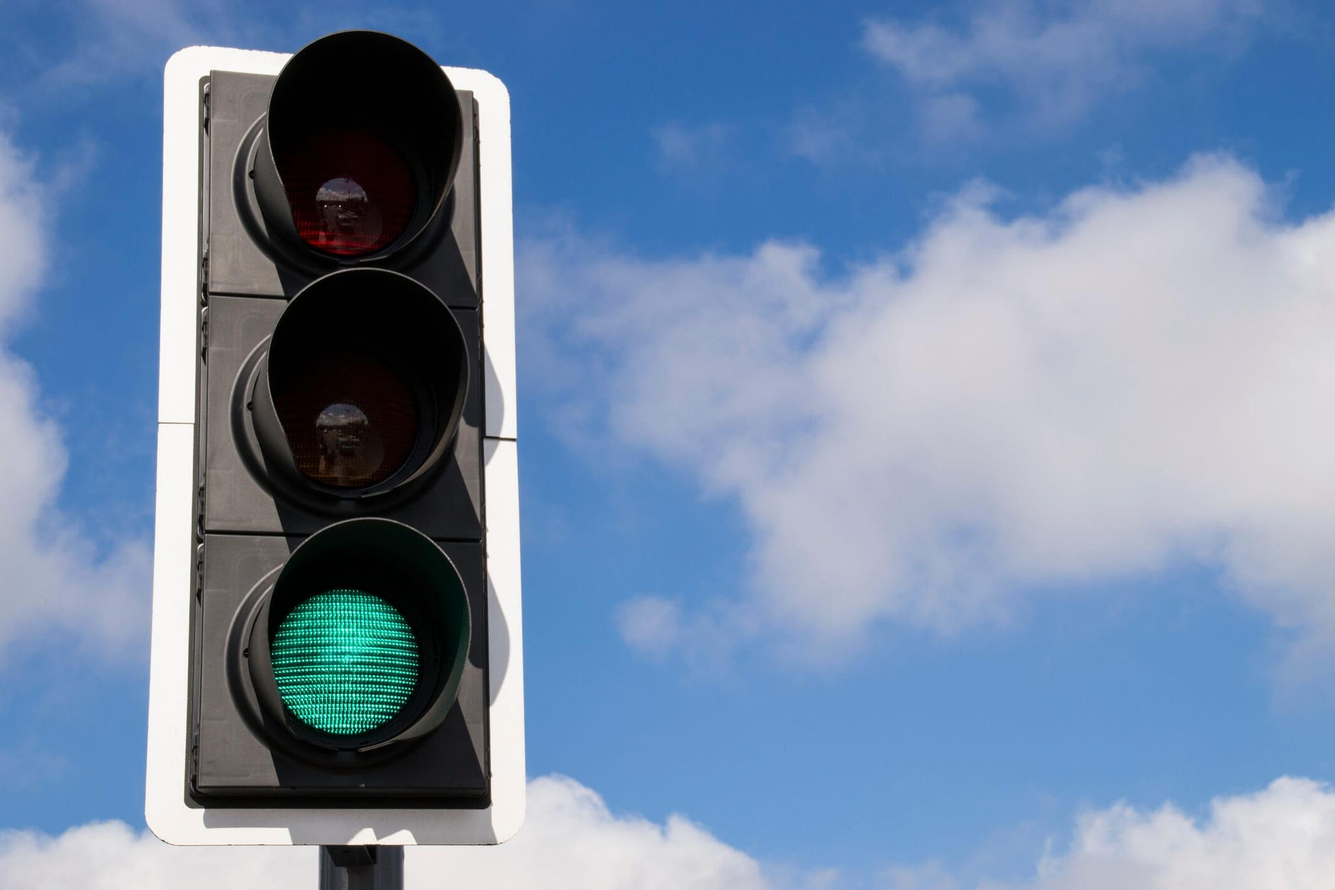Traffic light green: (145, 15, 531, 867)
